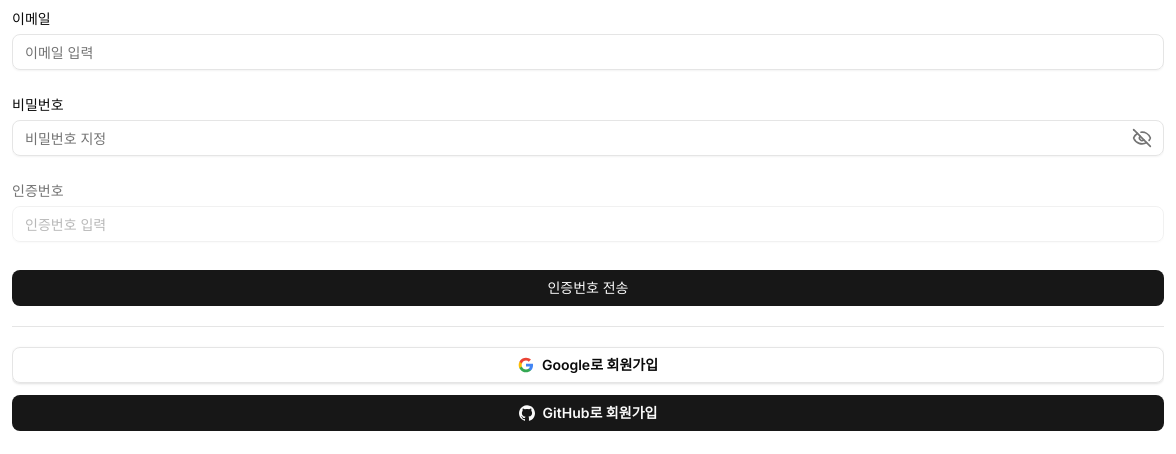
Test case: RegisterForm › step 1 제출 후 step 2 (사용자 이름) 폼으로 전환된다
This screenshot has width=1176, height=454.
Type "test@example.com" into the field with placeholder "이메일 입력" at [588, 52], box [12,34,1164,70]
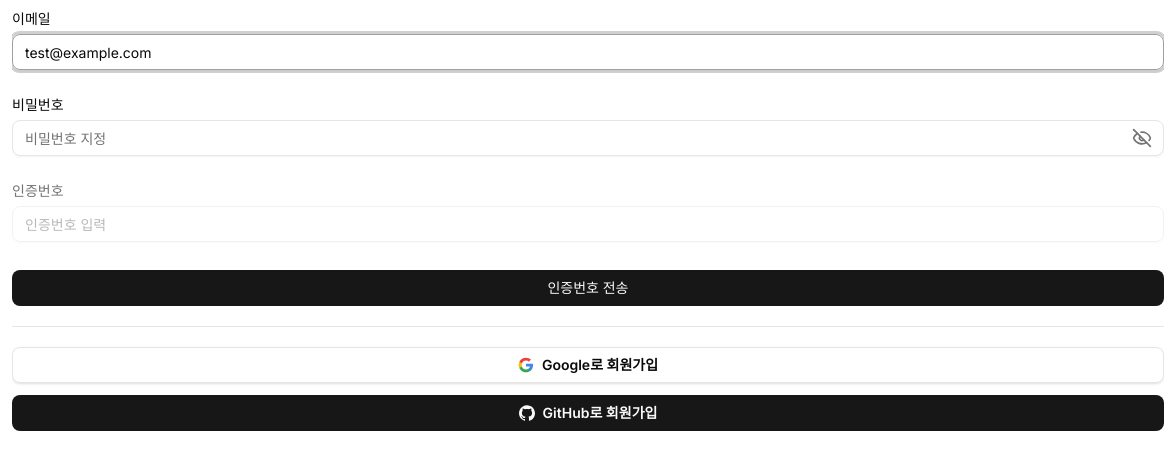
Type "Password1!" into the password field with placeholder "비밀번호 지정" at [588, 138], box [12,120,1164,156]
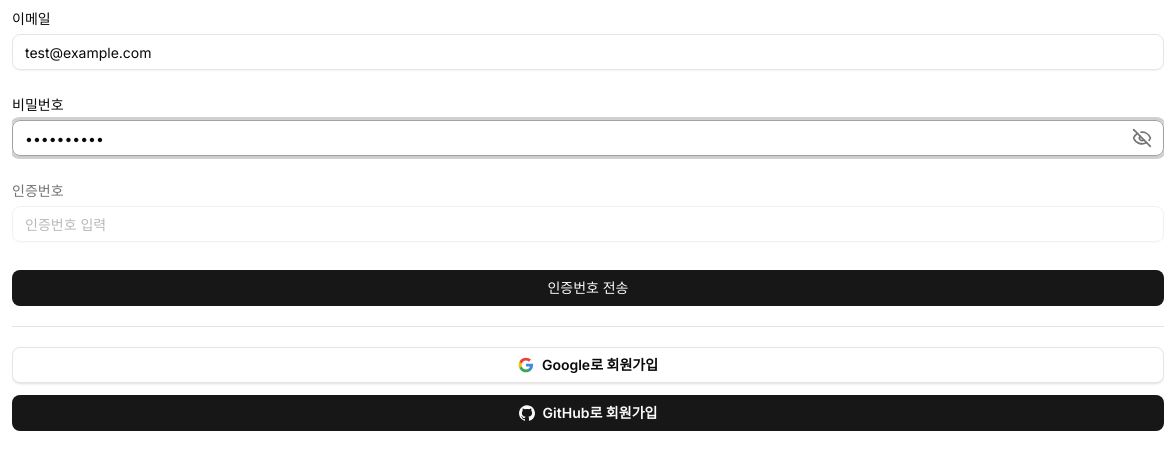
Click the button "인증번호 전송" at [588, 288], box [12,270,1164,306]
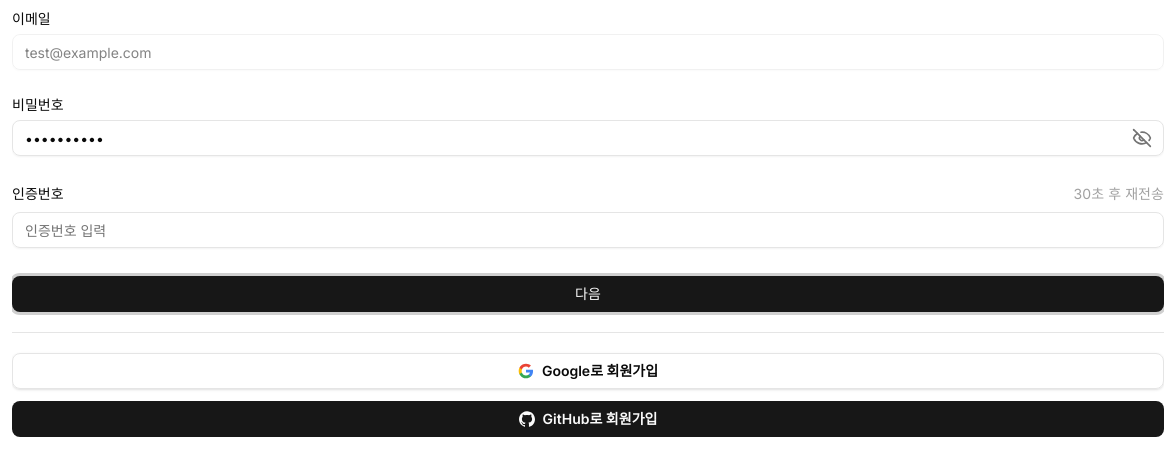
Type "123456" into the field with placeholder "인증번호 입력" at [588, 230], box [12,212,1164,248]
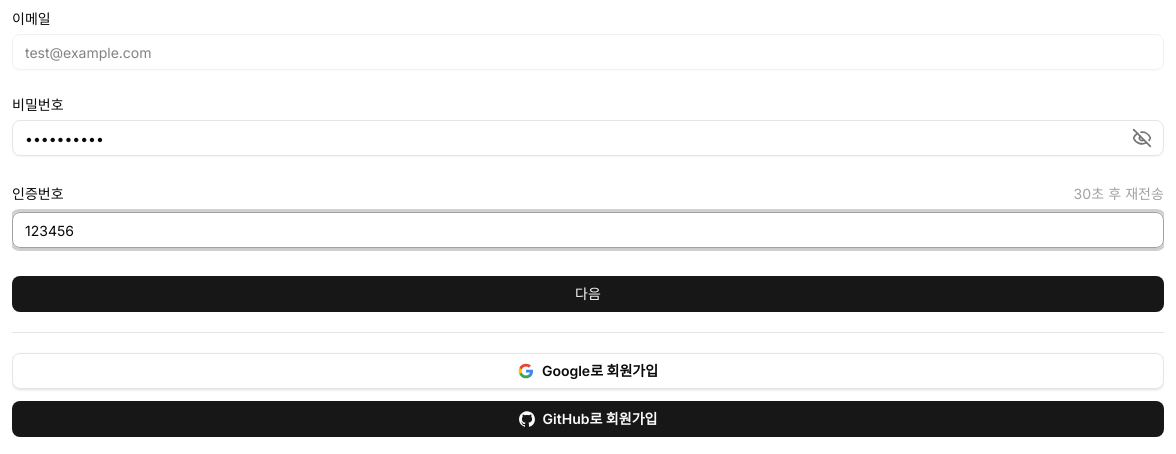
Click the button "다음" at [588, 294], box [12,276,1164,312]
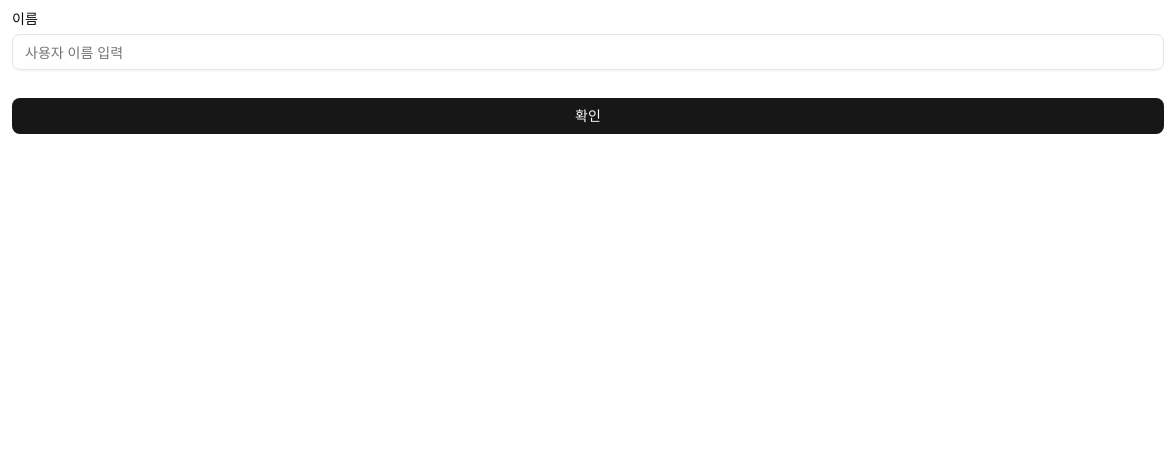
Expected: the field with placeholder "사용자 이름 입력" is shown, [12,34,1164,70]
